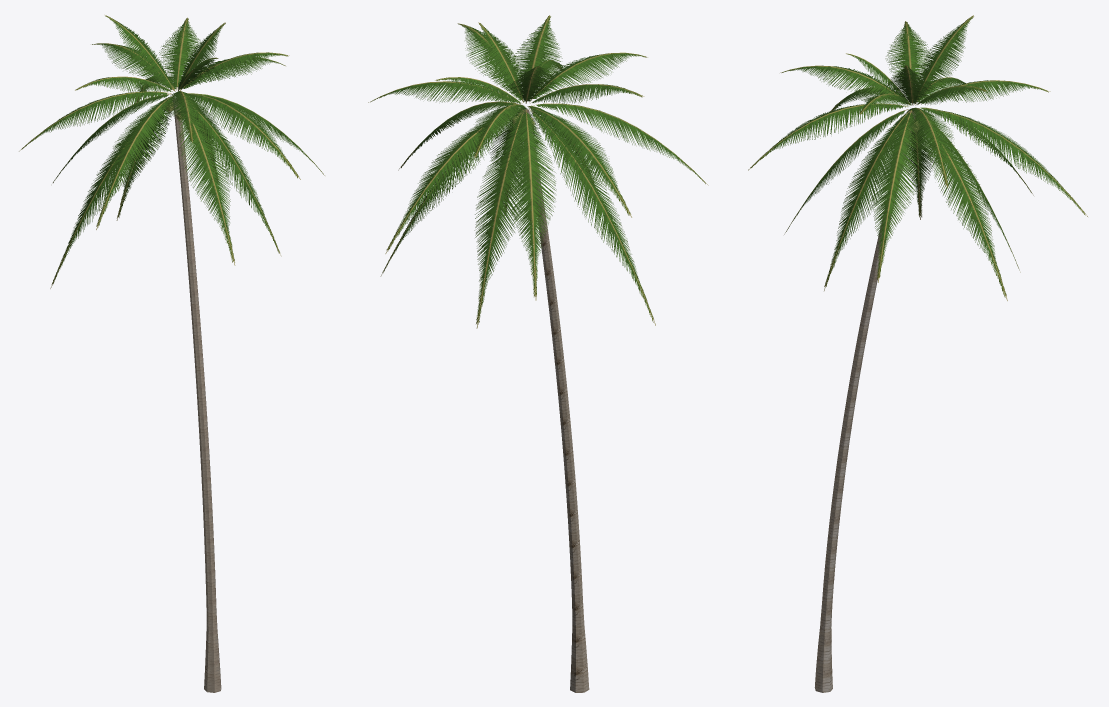
The model's file is palm_d.glb.
The picture shows the model from 3 angles, left to right: view 1: azimuth 30°, elevation 25°; view 2: azimuth 150°, elevation 25°; view 3: azimuth 270°, elevation 25°; orthographic projection. The views are drawn at different scales.
Visible parts, largest first — view 1: palm_d; view 2: palm_d; view 3: palm_d.
Part boxes in pixels (x1,y1,x2,y2): palm_d: (19,15,324,692); palm_d: (368,15,708,692); palm_d: (748,15,1087,692).
Size of the model in its own units: 8.67 by 19.25 by 9.41.
3 materials, 2 textured.
